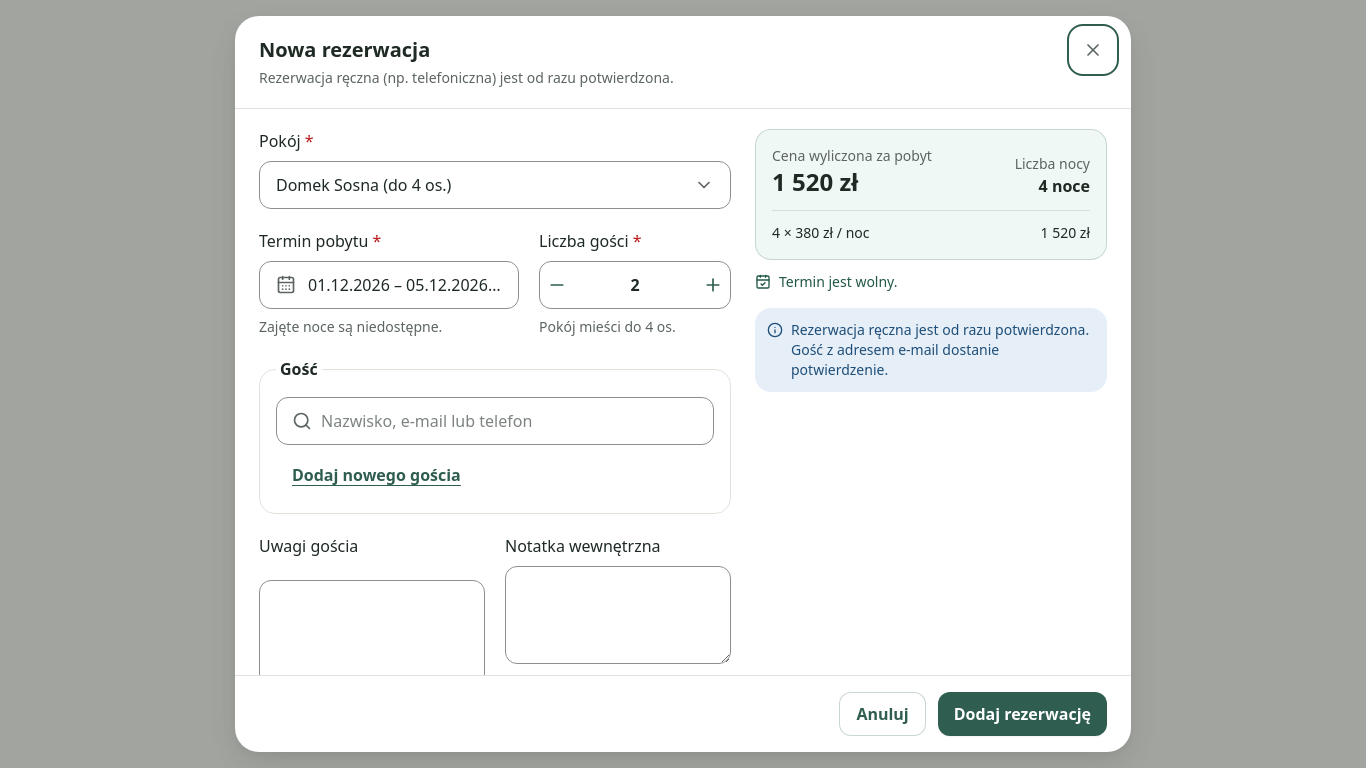
Test: ManualReservationDialog (O5) › a race lost to another booking (409 RESERVATION_OVERLAP) shows an inline alert
The width and height of the screenshot is (1366, 768).
Expected: the element "Cena wyliczona" is shown, [755,129,1107,260]
Click the button "Dodaj nowego gościa".
click(376, 475)  # box [276,453,477,497]
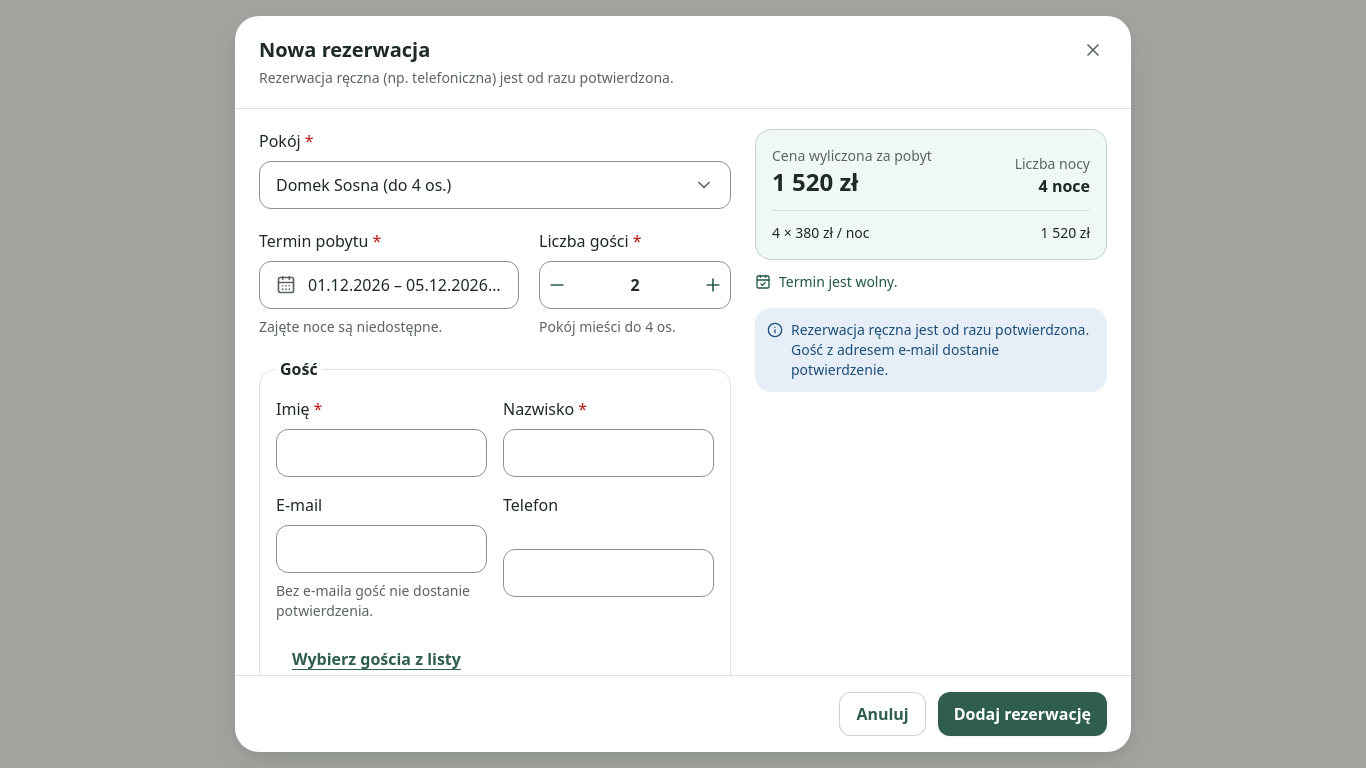
Type "Jan" into the field labelled "Imię *".
click(382, 453); type("Jan")  # box [276,429,487,477]
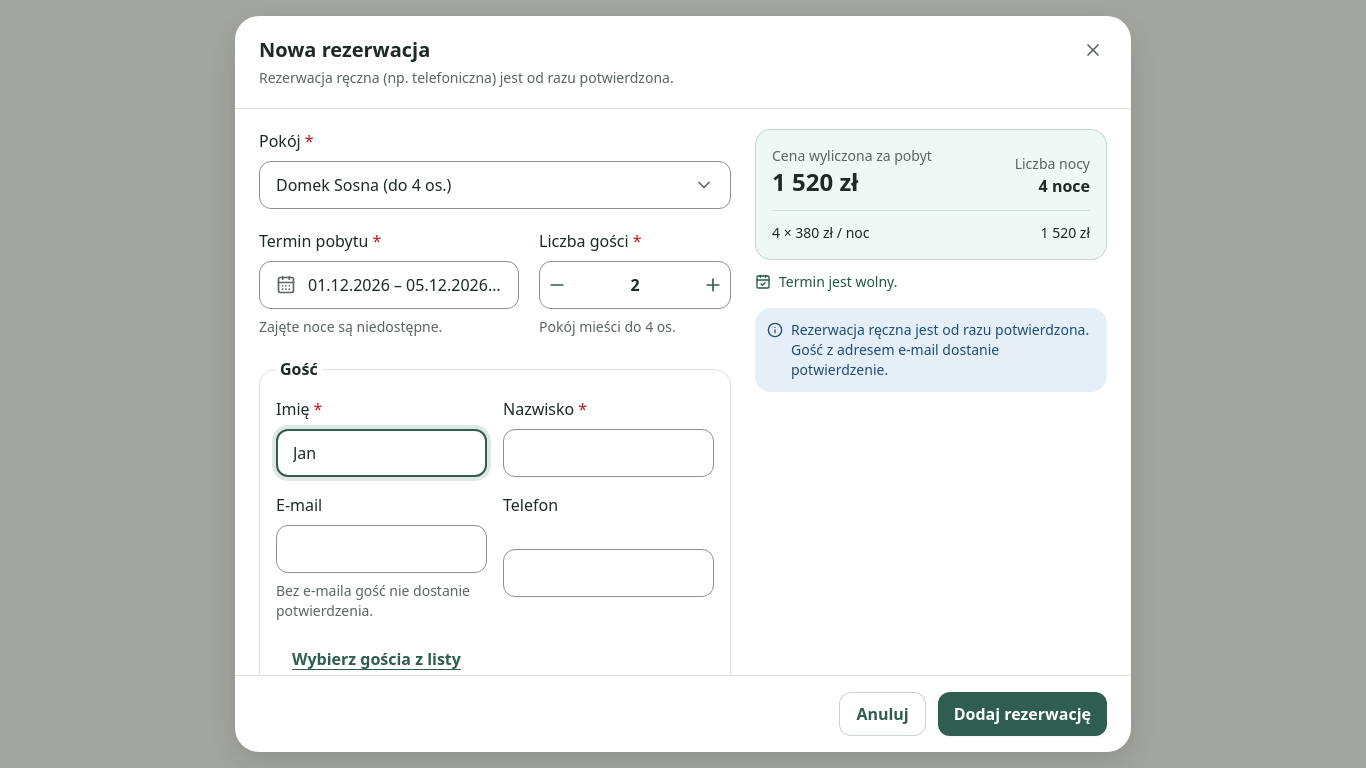
Type "Nowy" into the field labelled "Nazwisko *".
click(608, 453); type("Nowy")  # box [503,429,714,477]
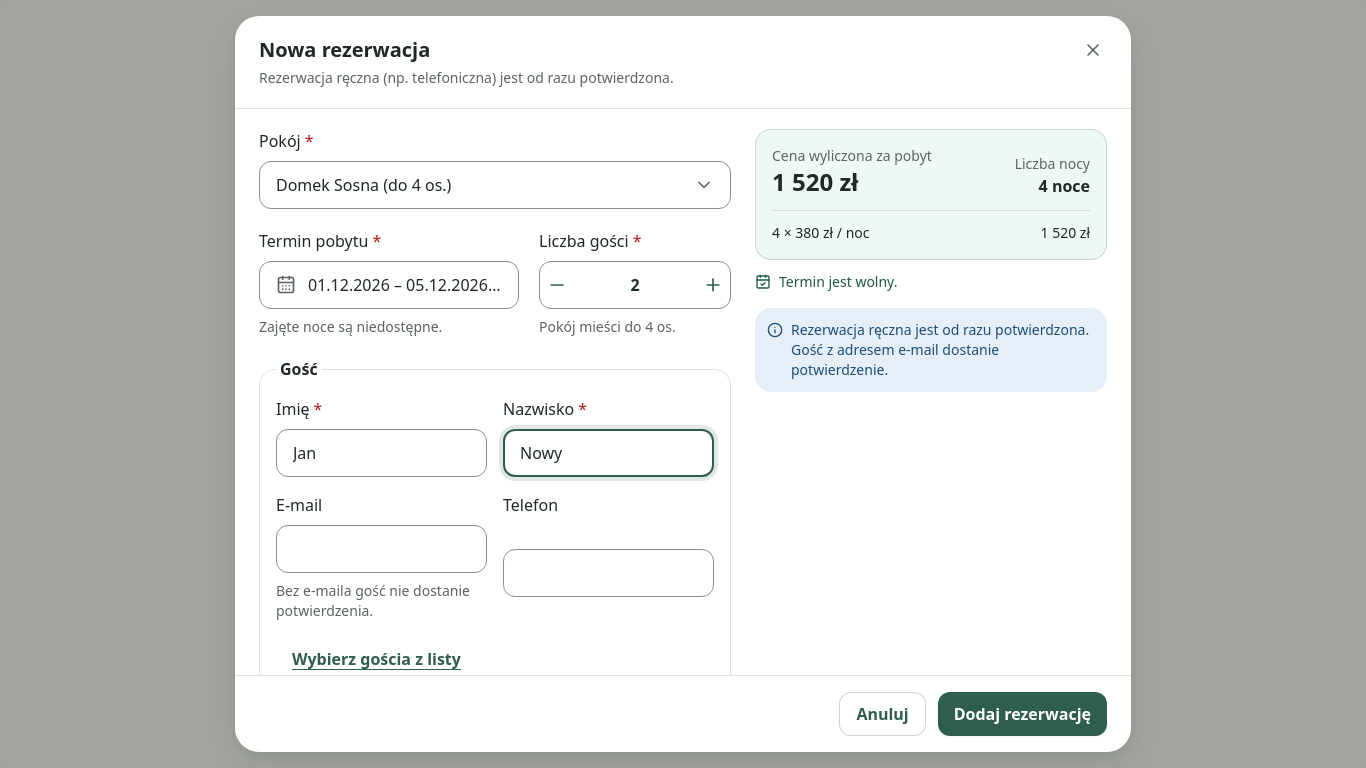
Click the button "Dodaj rezerwację".
click(1022, 714)  # box [938,692,1107,736]
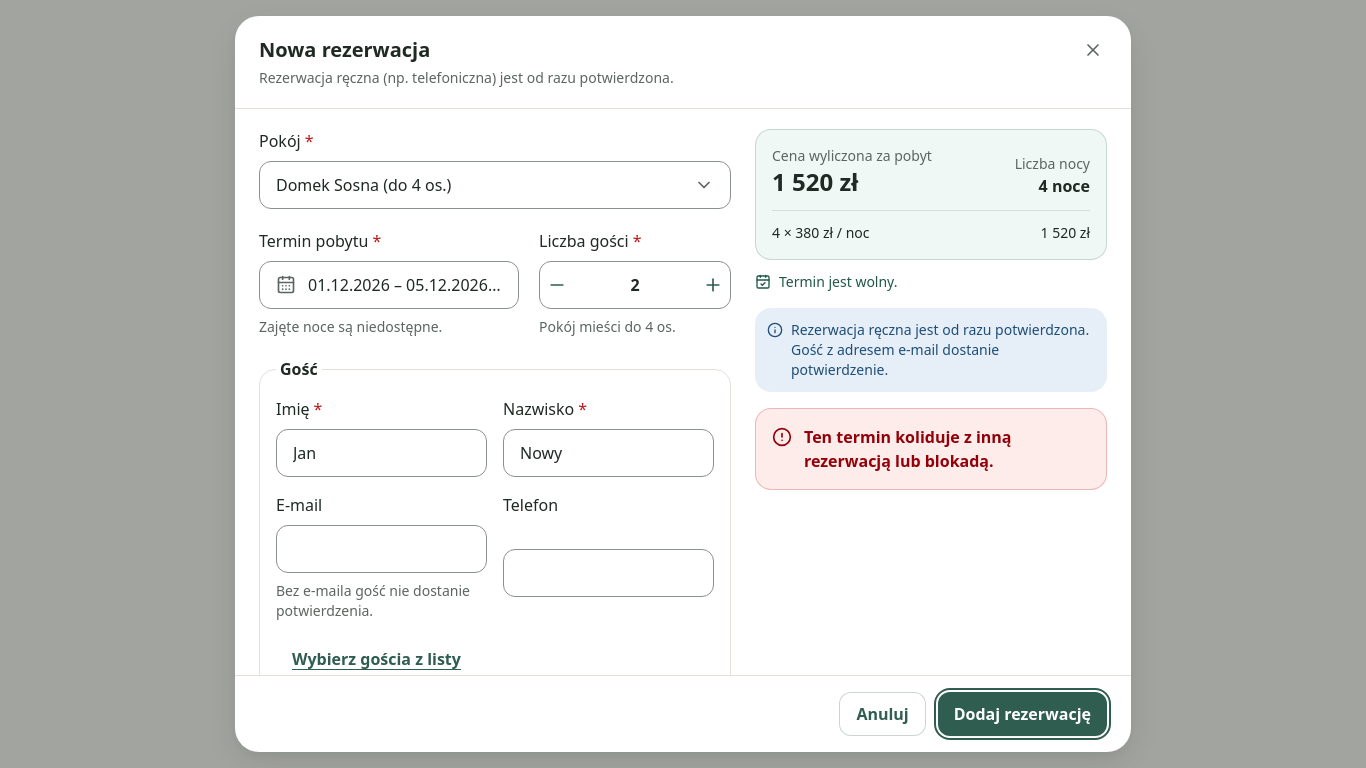
Expected: the text "Ten termin koliduje z inną rezerwacją lub blokadą." is shown, [804,426,1012,472]
